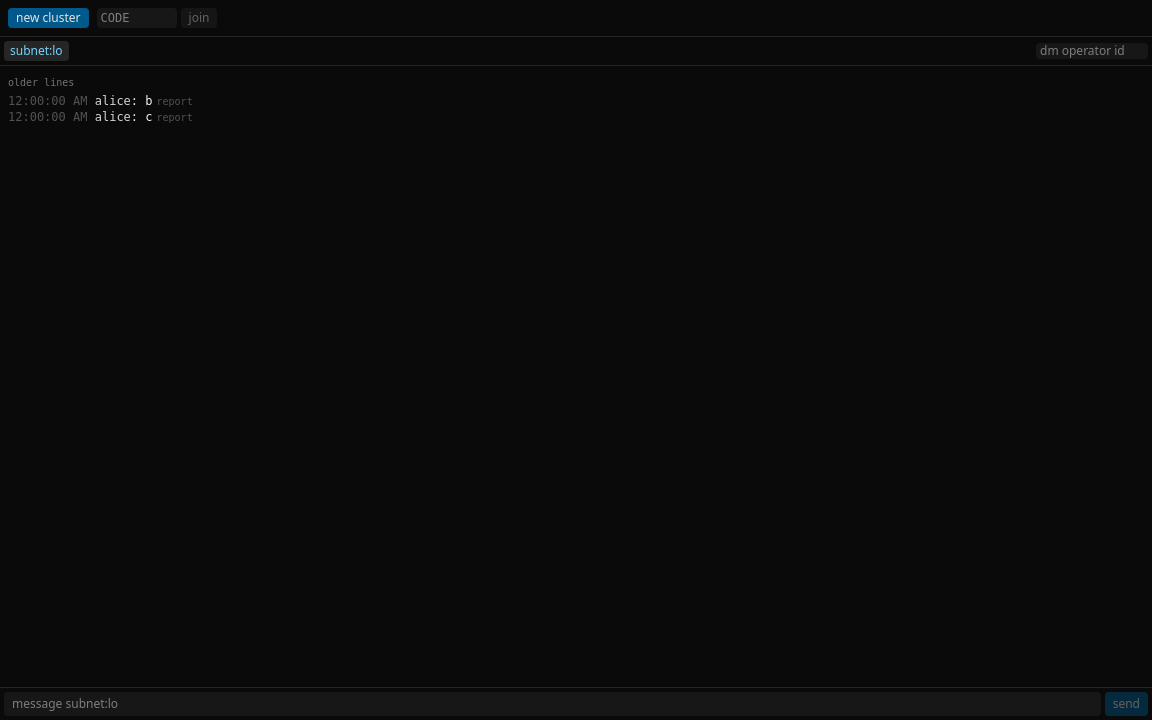
it: ChatPanel › loads older lines with the (at, id) cursor of the oldest line held, until a page comes back empty
Step 1. Click the button with test id "chat-older" → (41,83), box [8,76,74,89]
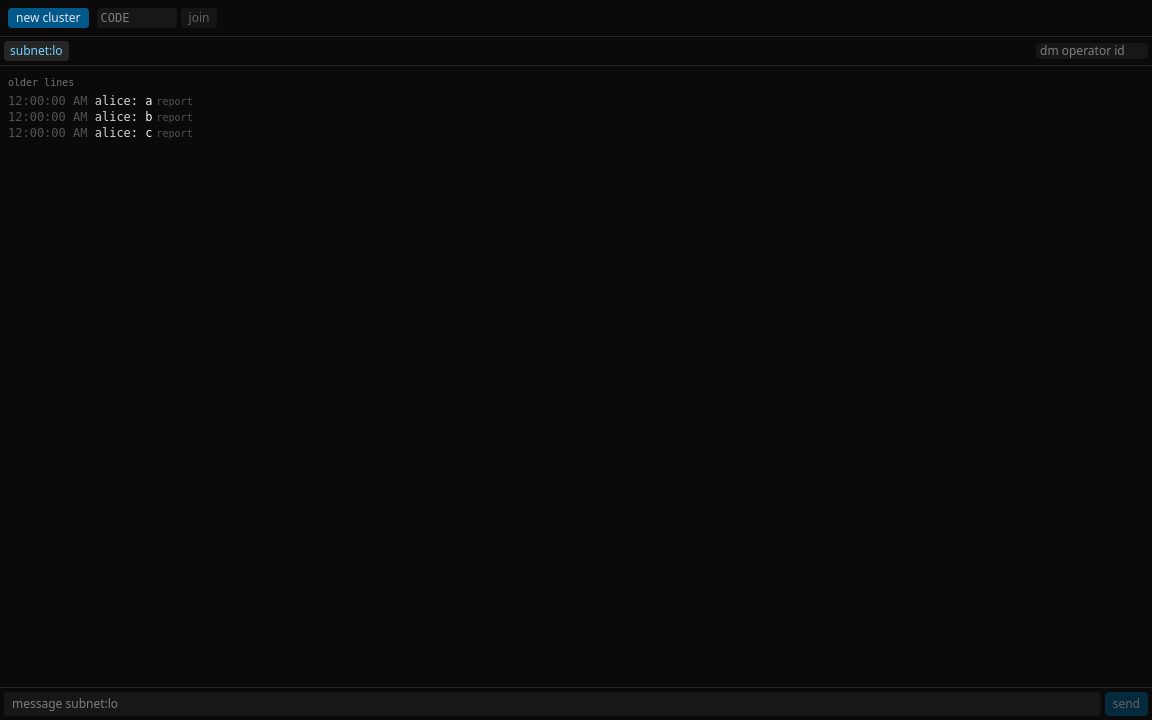
Step 2. Click the button with test id "chat-older" → (41,83), box [8,76,74,89]
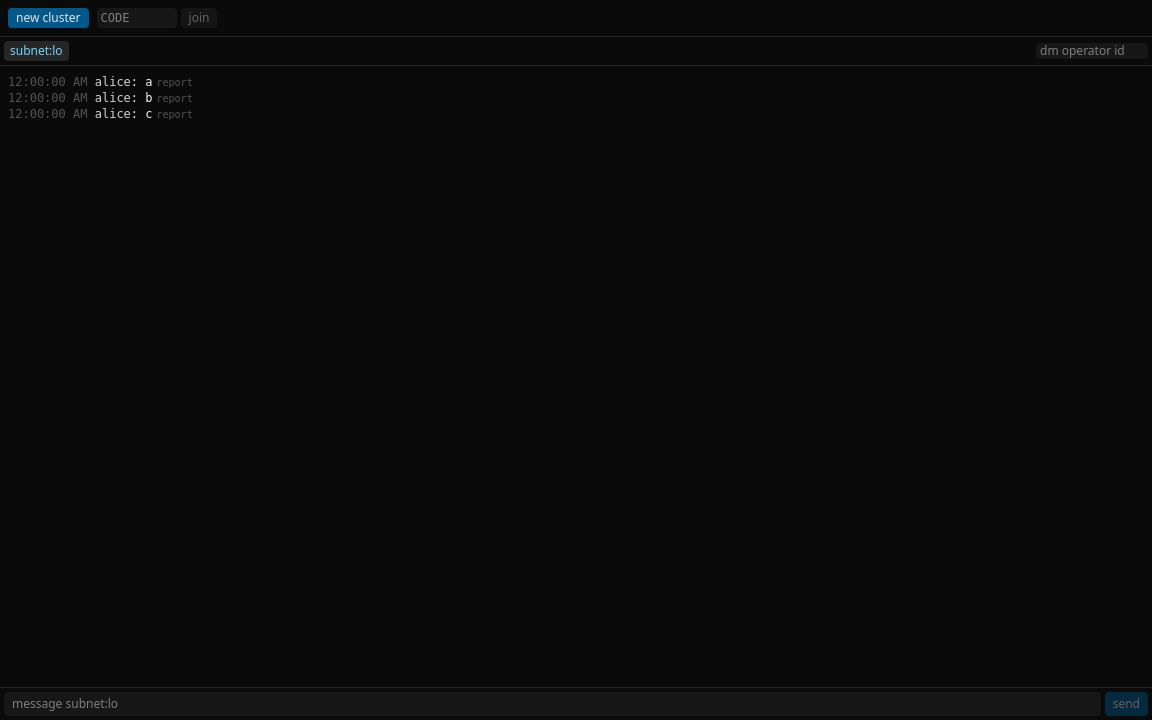
Check: the button with test id "chat-older" is gone
